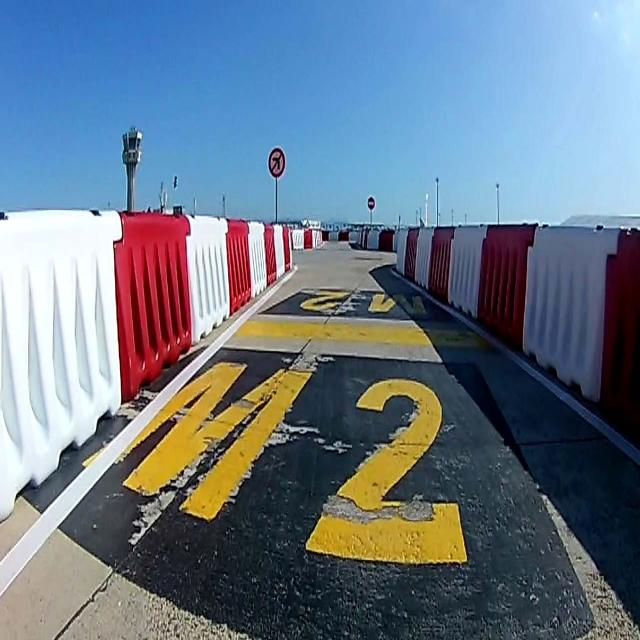girisyok: (367, 196, 375, 212)
soladonulmez: (268, 145, 286, 181)
